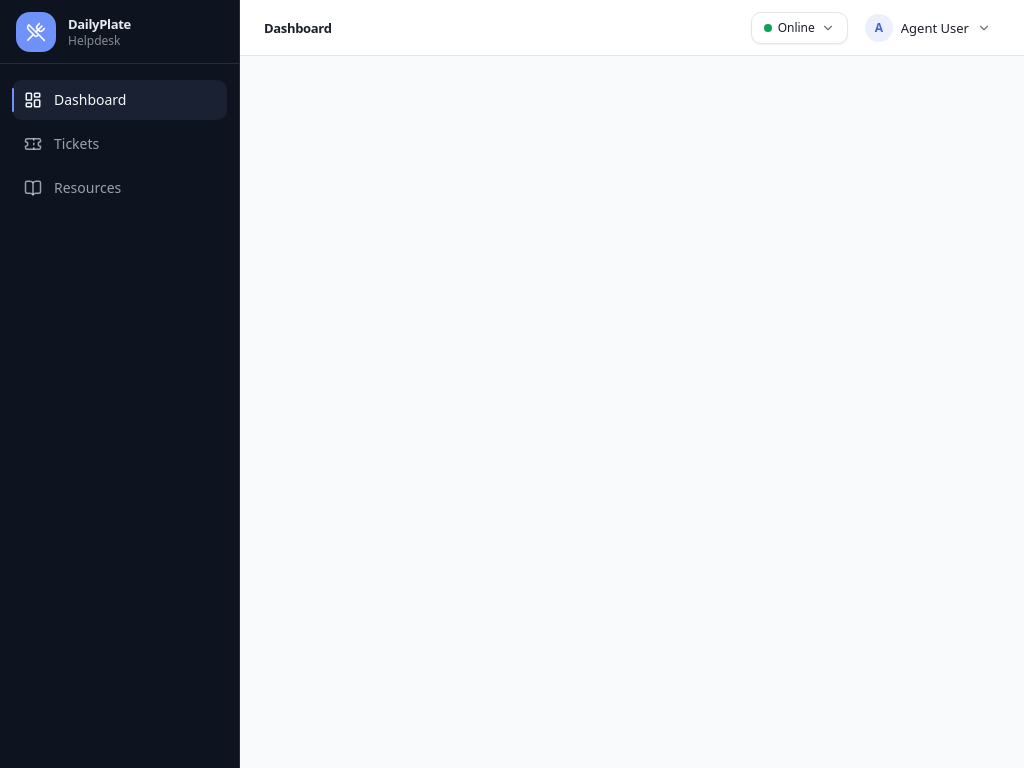
AppShell › agent availability › selecting Away patches the matching status
Click the button with aria-label "availability:": {"x": 799, "y": 28} 751,12 -> 848,44
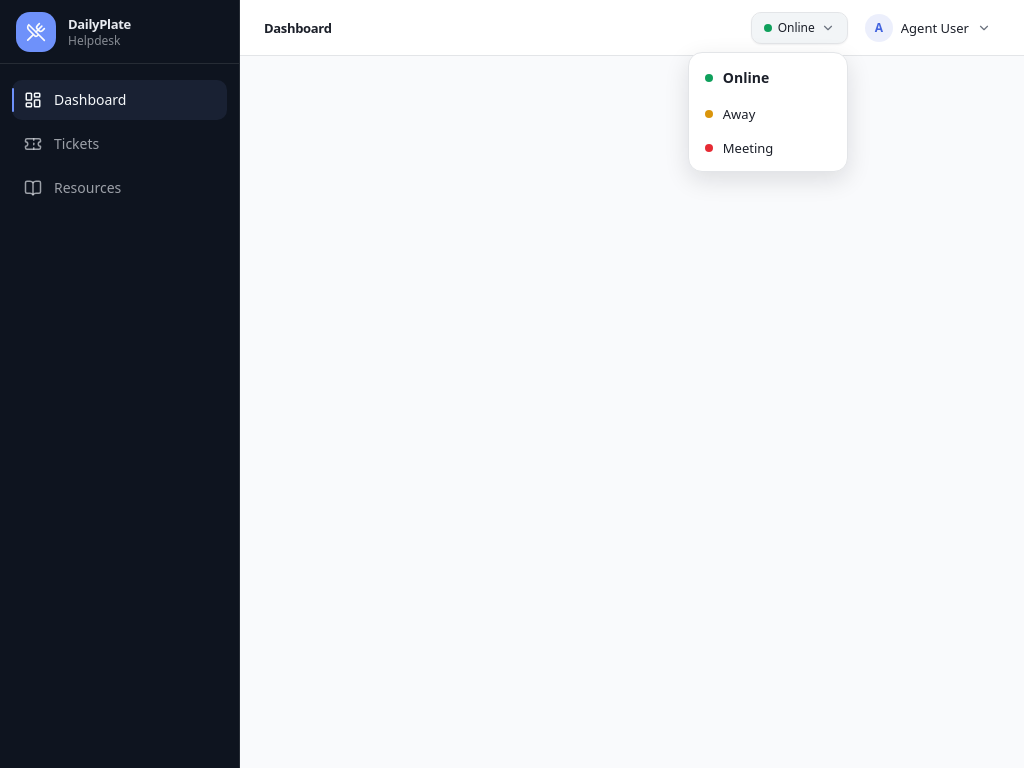
Click the menu item "Away": {"x": 768, "y": 114} 695,96 -> 841,130
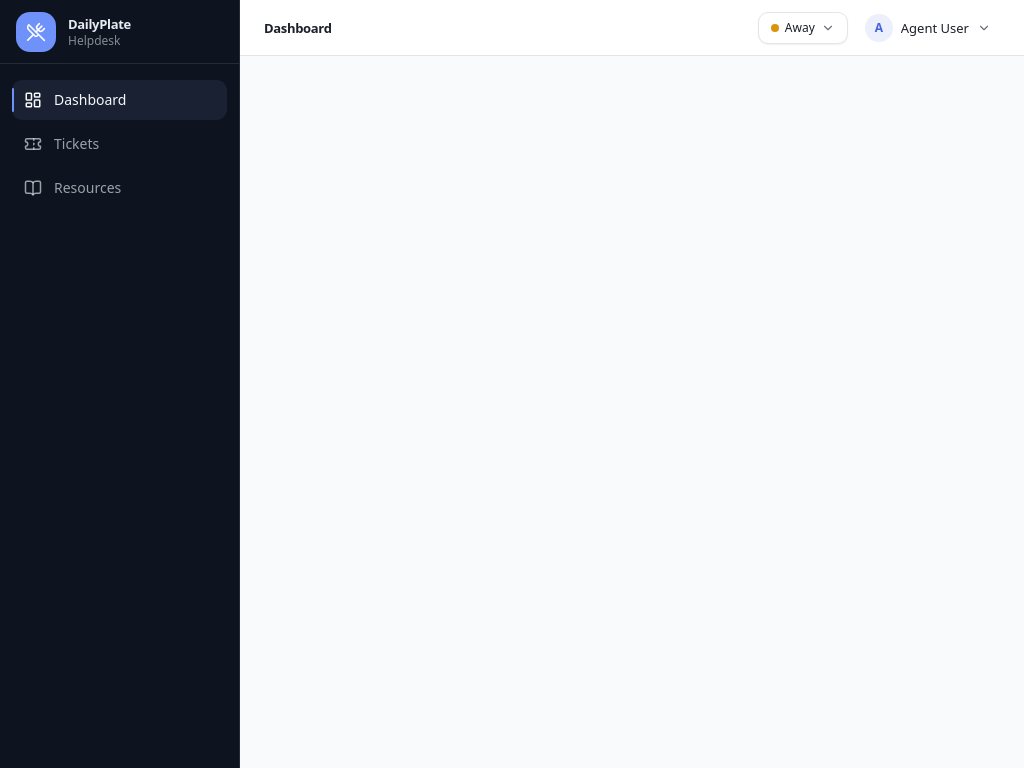
Expected: the button with aria-label "Availability: Away" is shown, 758,12 -> 848,44
